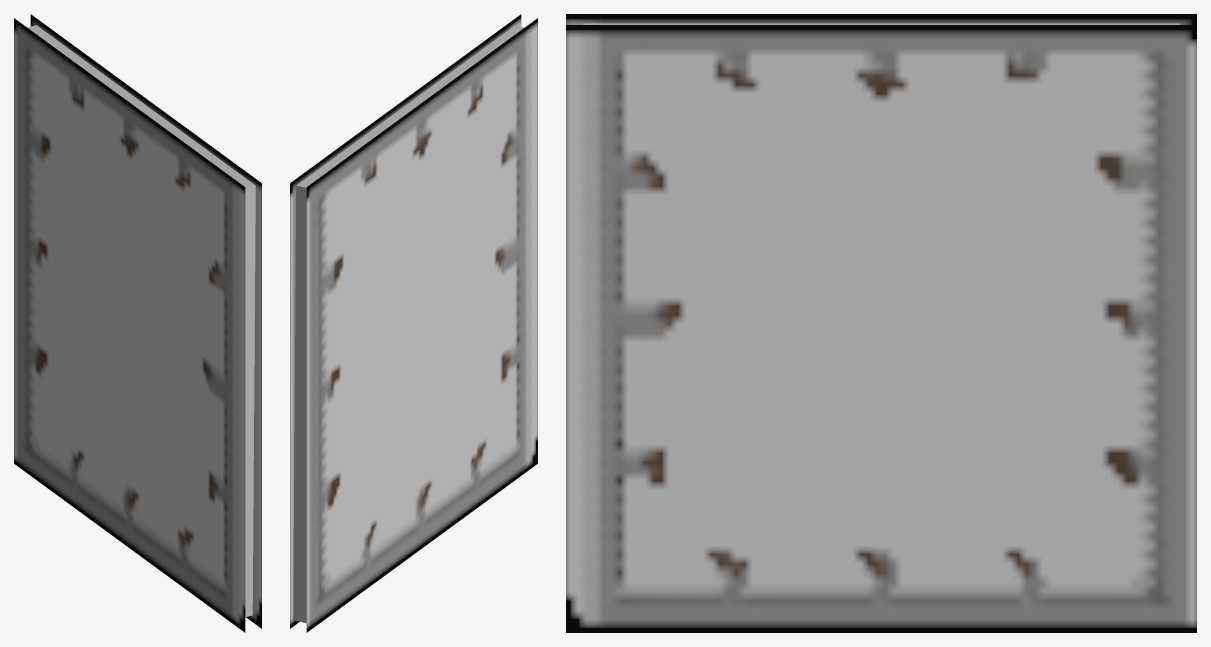
Rendered from pz_native_fixtures_windows_white_114_frame.obj.
3 renders of one model, left to right at view 1: azimuth 30°, elevation 25°; view 2: azimuth 150°, elevation 25°; view 3: azimuth 270°, elevation 25°, orthographic. The views are drawn at different scales.
Visible parts, largest first — view 1: pz_native_fixtures_windows_white_114_frame; view 2: pz_native_fixtures_windows_white_114_frame; view 3: pz_native_fixtures_windows_white_114_frame.
Part boxes in pixels (x1,y1,x2,y2): pz_native_fixtures_windows_white_114_frame: (14, 14, 261, 632); pz_native_fixtures_windows_white_114_frame: (290, 14, 537, 632); pz_native_fixtures_windows_white_114_frame: (566, 14, 1196, 632).
Bounding box in the file's own units: 0.04 × 1.03 × 0.9696.
Materials: 1 (1 with a texture image).
